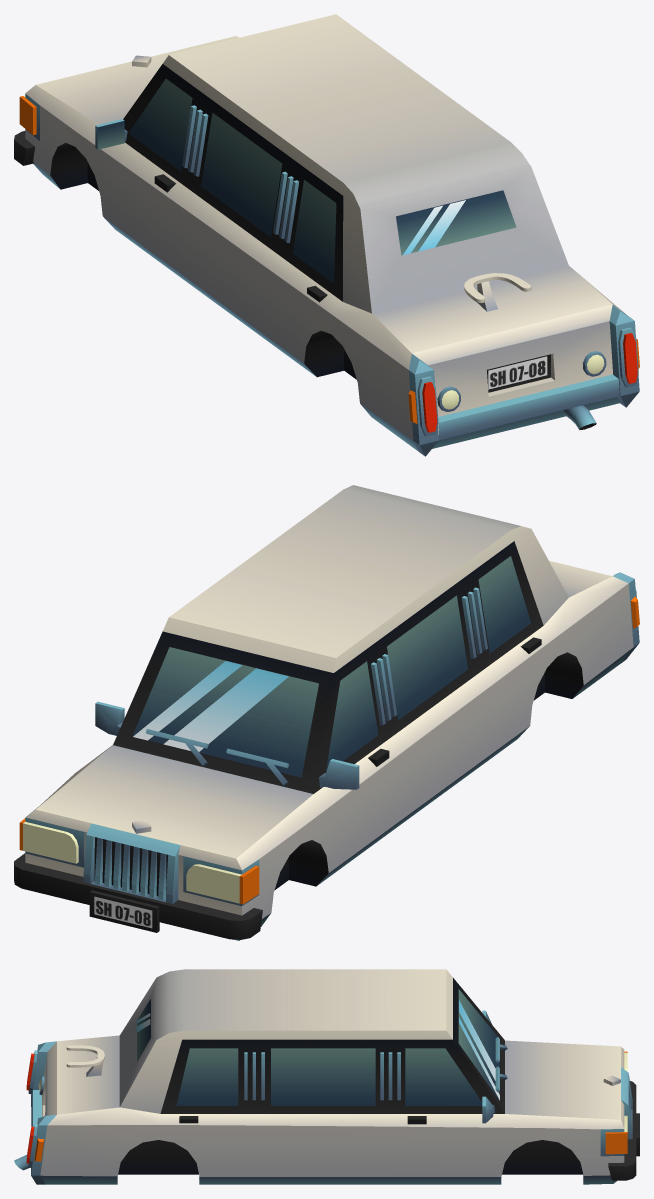
File: car15.glb
3 renders of one model, top to bottom at view 1: azimuth 30°, elevation 25°; view 2: azimuth 150°, elevation 25°; view 3: azimuth 270°, elevation 25°, orthographic. The views are drawn at different scales.
Visible parts, largest first — view 1: model_9; view 2: model_9; view 3: model_9.
Part boxes in pixels (bbox=[...]): model_9: bbox=[14, 14, 639, 456]; model_9: bbox=[14, 485, 639, 940]; model_9: bbox=[14, 969, 639, 1184].
Size of the model in its own units: 153 by 112 by 422.
1 material, 1 textured.
